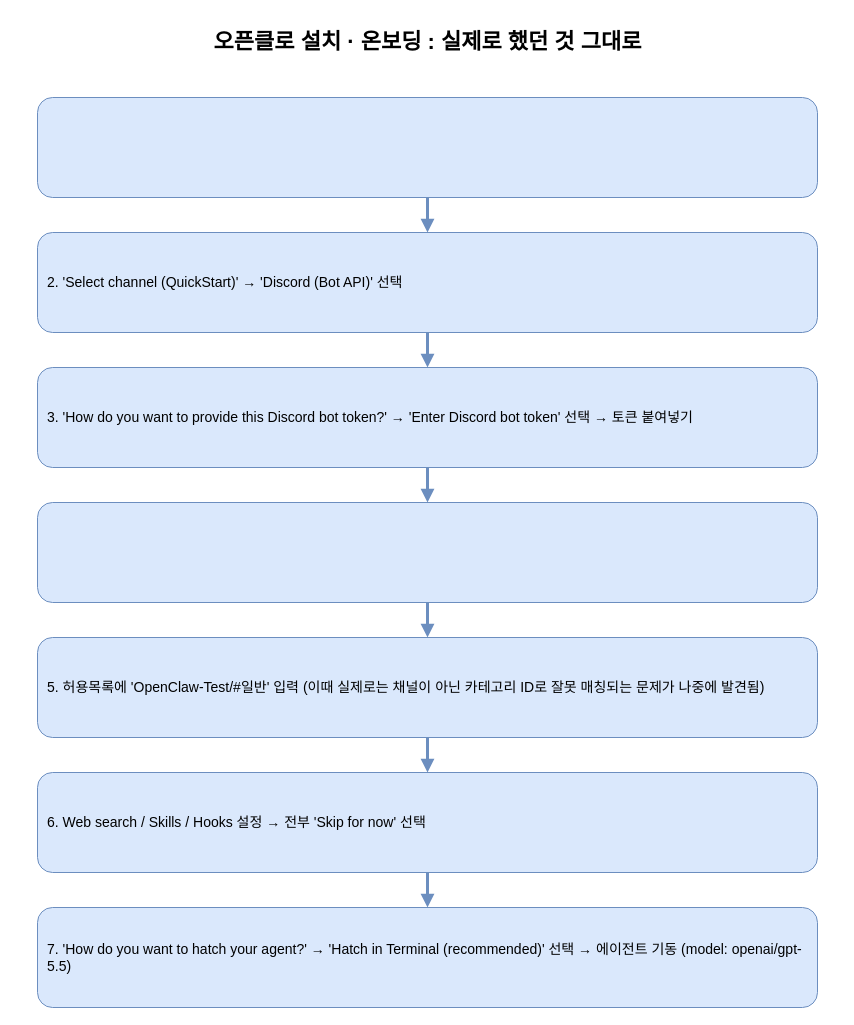
The diagram is 854 pixels wide and 1025 high, and some of its shapes have lost their labels. The centre of each missing label's shape, as x and y in pixels:
1. WSL 안에 배포판 'openclaw01' (Ubuntu-24.04 기반) 에서 openclaw onboard 실행: (x=427, y=147)
4. 'Configure Discord channels access?' → Yes → 'Allowlist (recommended)' 선택: (x=427, y=552)
